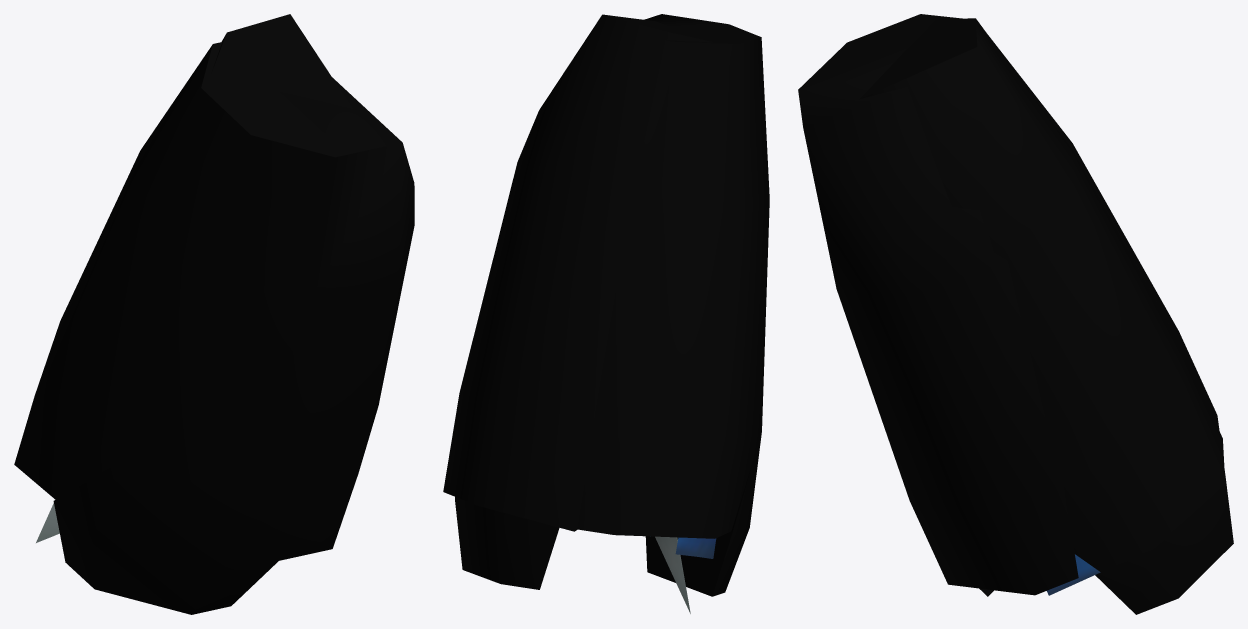
File: megamanX_brazoI.obj
3 views of the same model, side by side, from view 1: azimuth 30°, elevation 25°; view 2: azimuth 150°, elevation 25°; view 3: azimuth 270°, elevation 25° (orthographic). The views are drawn at different scales.
Visible parts, largest first — view 1: Pierna_izquierda026; view 2: Pierna_izquierda026, Pierna_izquierda025, Pierna_izquierda027; view 3: Pierna_izquierda026, Pierna_izquierda025.
Boxes of the visible parts, x1=… form: Pierna_izquierda026: x1=14, y1=14, x2=414, y2=614; Pierna_izquierda026: x1=443, y1=14, x2=769, y2=596; Pierna_izquierda025: x1=455, y1=497, x2=559, y2=589; Pierna_izquierda027: x1=655, y1=536, x2=716, y2=613; Pierna_izquierda026: x1=798, y1=14, x2=1225, y2=596; Pierna_izquierda025: x1=1095, y1=468, x2=1233, y2=614.
Bounding box in the file's own units: 1.09 × 2.05 × 1.41.
